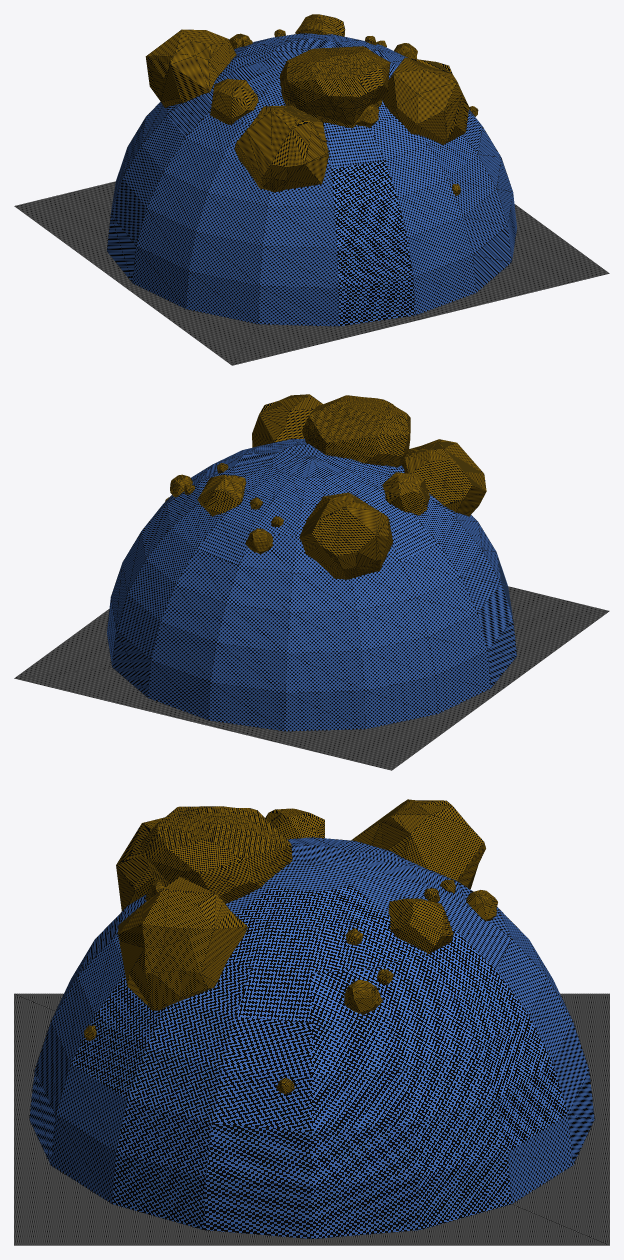
Rendered from alakajam13th.fbx.
3 renders of one model, top to bottom at view 1: azimuth 30°, elevation 25°; view 2: azimuth 150°, elevation 25°; view 3: azimuth 270°, elevation 25°, orthographic. The views are drawn at different scales.
Visible parts, largest first — view 1: Dome, Stones, Ground, Pillars; view 2: Dome, Ground, Stones, Pillars; view 3: Dome, Ground, Stones, Pillars.
Boxes of the visible parts, x1,y1,x2,y2 form: Dome: [107, 33, 516, 326]; Stones: [145, 14, 478, 195]; Ground: [14, 181, 609, 365]; Pillars: [280, 46, 390, 128]; Dome: [107, 438, 516, 731]; Ground: [14, 586, 609, 770]; Stones: [165, 394, 486, 579]; Pillars: [302, 395, 410, 467]; Dome: [29, 837, 594, 1238]; Ground: [14, 993, 609, 1245]; Stones: [84, 799, 497, 1094]; Pillars: [140, 806, 292, 903].
Size of the model in its own units: 8000 by 4878 by 8000.
